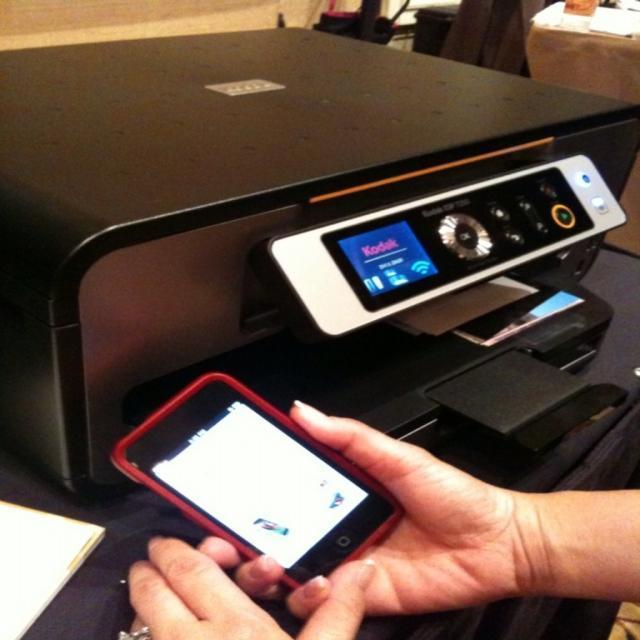Phone: (110, 368, 402, 588)
